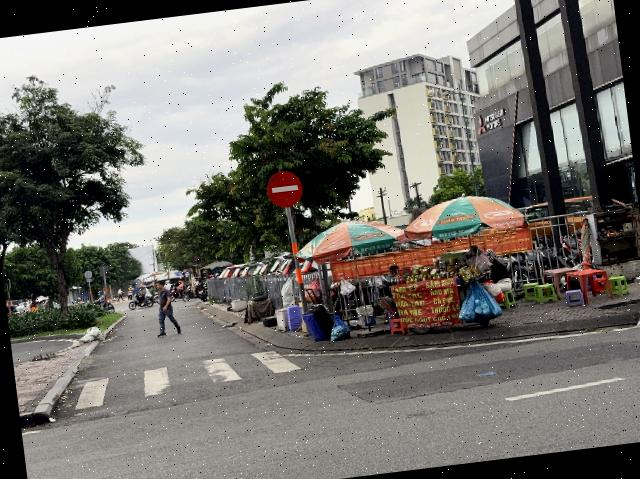cam-di-nguoc-chieu: (264, 168, 304, 210)
